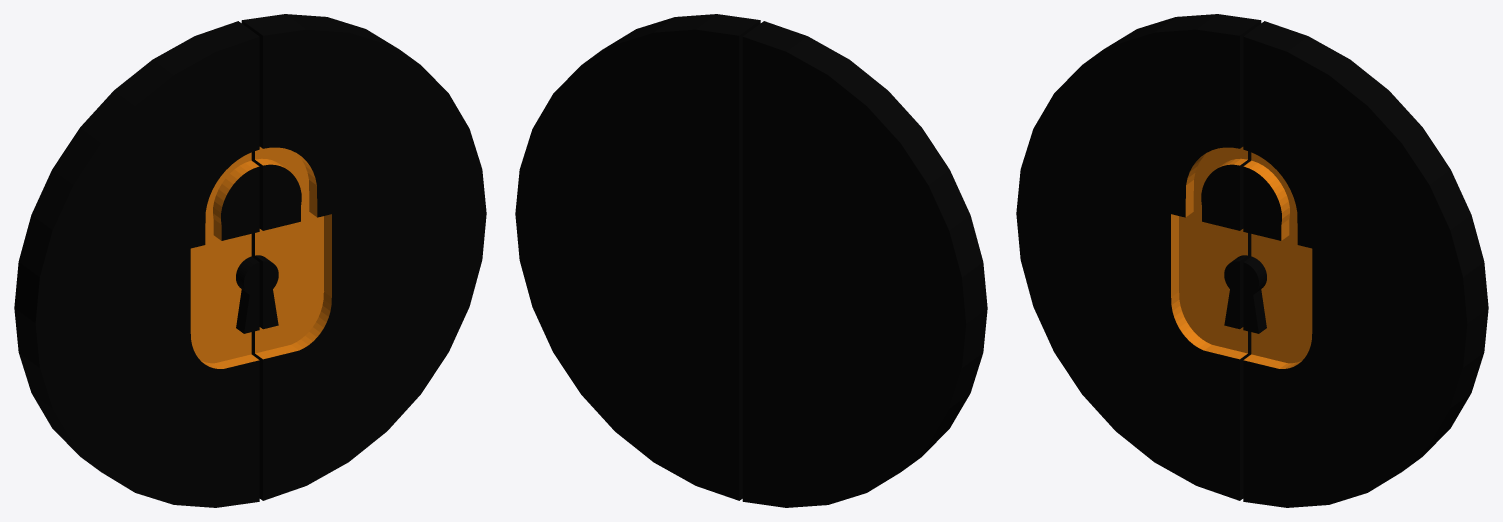
Rendered from gate (1).fbx.
3 renders of one model, left to right at view 1: azimuth 30°, elevation 25°; view 2: azimuth 150°, elevation 25°; view 3: azimuth 330°, elevation 25°, orthographic.
Parts seen in each view (by area): view 1: left.001, right.001; view 2: left.001, right.001; view 3: right.001, left.001.
Part boxes in pixels (left/top/right/bottom): left.001: left=14, top=21, right=259, bottom=507; right.001: left=241, top=14, right=486, bottom=500; left.001: left=742, top=21, right=987, bottom=507; right.001: left=515, top=14, right=760, bottom=500; right.001: left=1243, top=21, right=1488, bottom=507; left.001: left=1016, top=14, right=1261, bottom=500.
Size of the model in its own units: 180 by 178 by 14.95.
